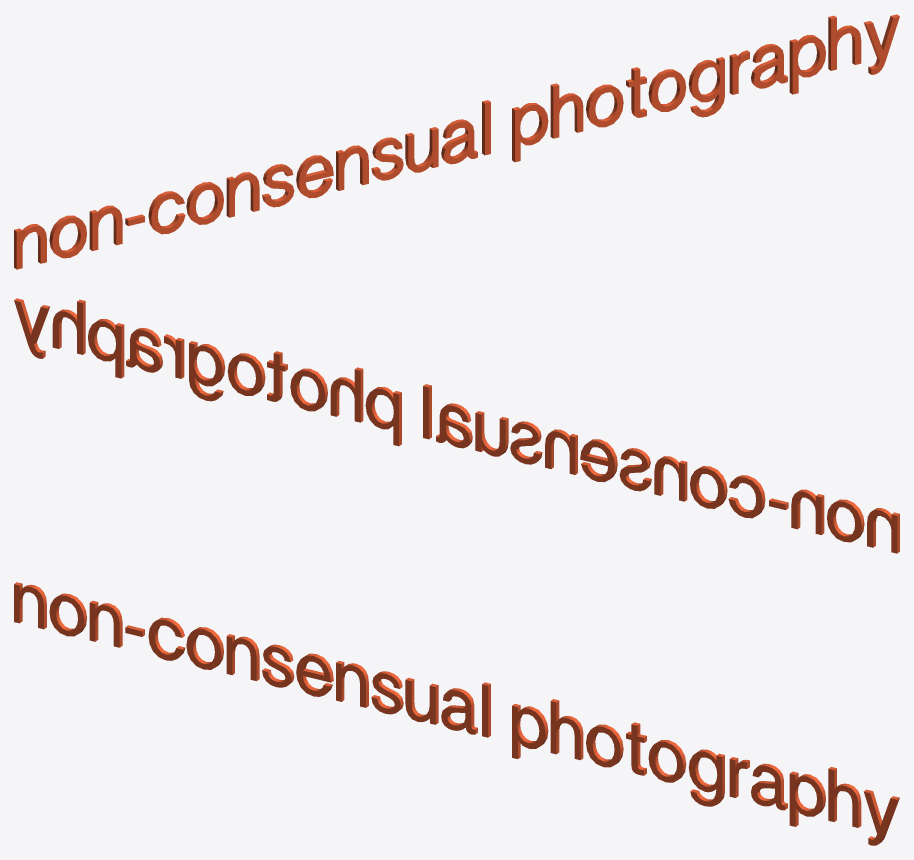
Rendered from non-consensual-photography.fbx.
3 renders of one model, top to bottom at view 1: azimuth 30°, elevation 25°; view 2: azimuth 150°, elevation 25°; view 3: azimuth 330°, elevation 25°, orthographic.
Visible parts, largest first — view 1: Text; view 2: Text; view 3: Text.
Boxes of the visible parts, x1=… form: Text: x1=14, y1=14, x2=899, y2=269; Text: x1=14, y1=298, x2=899, y2=553; Text: x1=14, y1=582, x2=899, y2=845.
Bounding box in the file's own units: 18.04 × 1.32 × 0.1.
